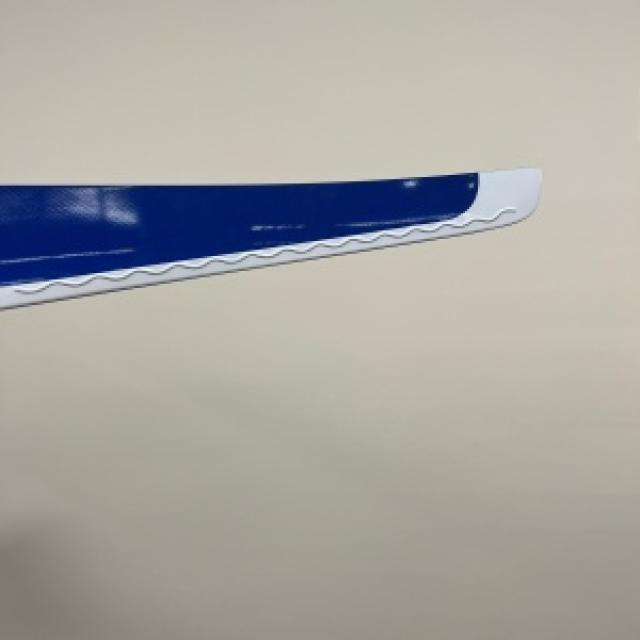healthy: (0, 166, 538, 305)
